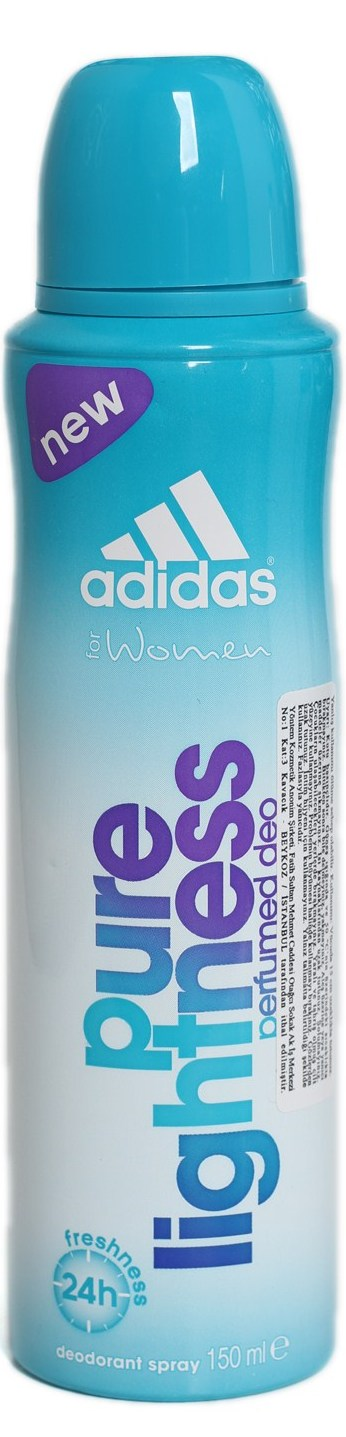Adidas: (77, 465, 282, 612)
